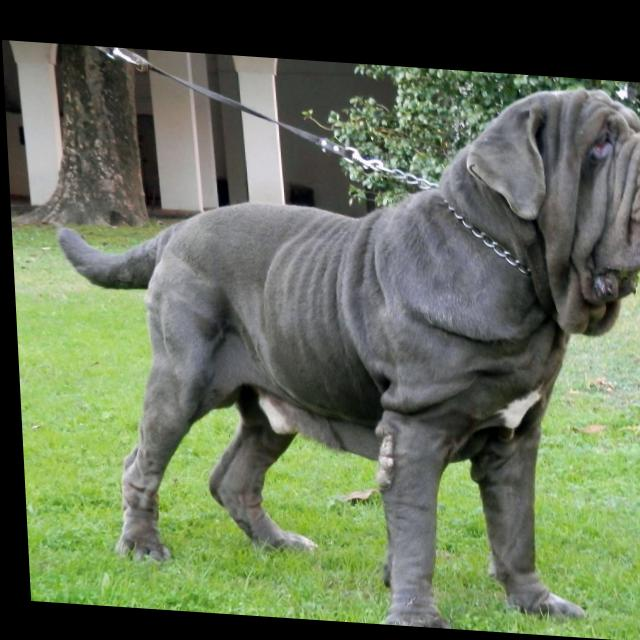mastino_napoletano: (47, 50, 640, 634)
